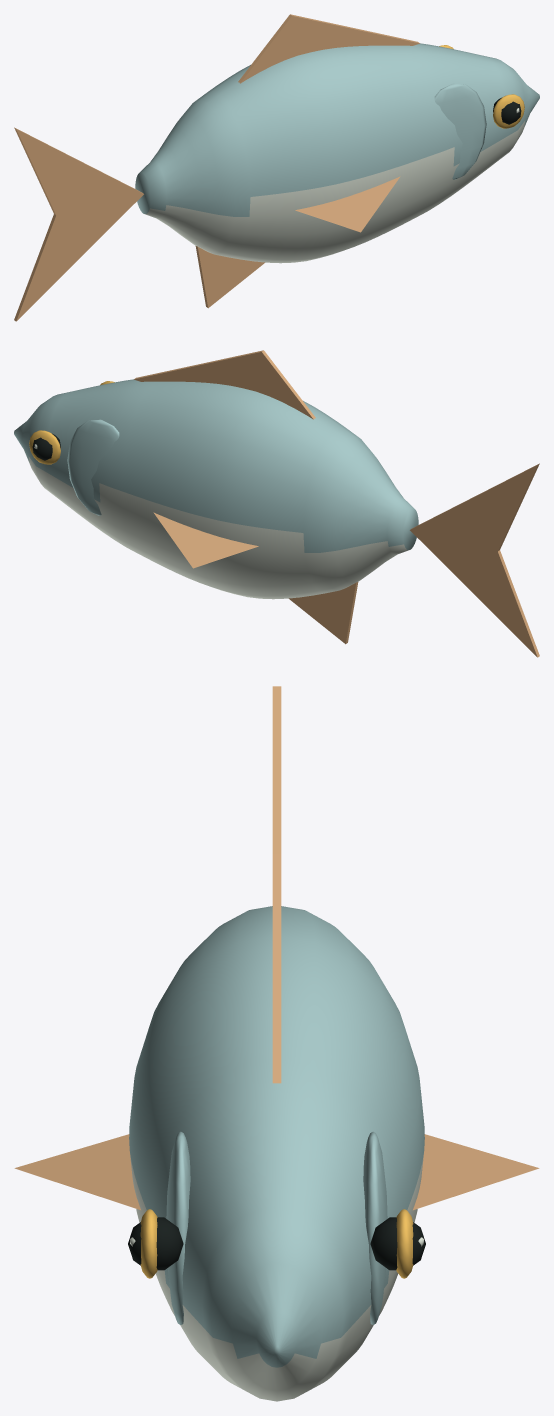
Rendered from carp.glb.
3 views of the same model, one above another, from view 1: azimuth 30°, elevation 25°; view 2: azimuth 150°, elevation 25°; view 3: azimuth 270°, elevation 25° (orthographic). The views are drawn at different scales.
Parts seen in each view (by area): view 1: carp_Body, TailFinLower, TailFin, Dorsal, Gill_plate, Pectoral, Anal_fin, Iris_rim, Eye; view 2: carp_Body, TailFinLower, TailFin, Dorsal, Gill_plate.001, Pectoral.001, Anal_fin, Iris_rim.001, Eye.001; view 3: carp_Body, Pectoral, Pectoral.001, Gill_plate, Gill_plate.001, Dorsal, TailFin, Eye, Eye.001, Iris_rim, Iris_rim.001.
Part boxes in pixels (box(x1,y1,x2,y2)): carp_Body: box(135, 43, 539, 263); TailFinLower: box(14, 194, 143, 321); TailFin: box(14, 127, 143, 215); Dorsal: box(238, 14, 419, 83); Gill_plate: box(434, 83, 486, 179); Pectoral: box(295, 176, 400, 232); Anal_fin: box(195, 246, 264, 308); Iris_rim: box(493, 94, 524, 128); Eye: box(493, 97, 521, 124); carp_Body: box(14, 379, 418, 599); TailFinLower: box(410, 530, 539, 657); TailFin: box(410, 463, 539, 551); Dorsal: box(134, 350, 315, 419); Gill_plate.001: box(67, 419, 119, 515); Pectoral.001: box(153, 512, 258, 568); Anal_fin: box(289, 582, 358, 644); Iris_rim.001: box(29, 430, 60, 464); Eye.001: box(32, 433, 60, 460); carp_Body: box(129, 906, 424, 1401); Pectoral: box(14, 1134, 140, 1210); Pectoral.001: box(413, 1134, 539, 1210); Gill_plate: box(166, 1131, 190, 1324); Gill_plate.001: box(363, 1131, 387, 1324); Dorsal: box(272, 854, 281, 1083); TailFin: box(272, 686, 281, 854); Eye: box(128, 1217, 183, 1270); Eye.001: box(370, 1217, 425, 1270); Iris_rim: box(140, 1209, 157, 1278); Iris_rim.001: box(396, 1209, 413, 1278).
Bounding box in the file's own units: 2.16 × 1.07 × 0.996.
